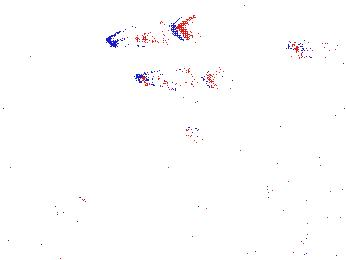X-ray fish: (89, 78, 142, 117)
glassfish: (183, 122, 271, 184)
redtail glassfish: (104, 9, 195, 50), (136, 65, 218, 97), (290, 36, 346, 61)
